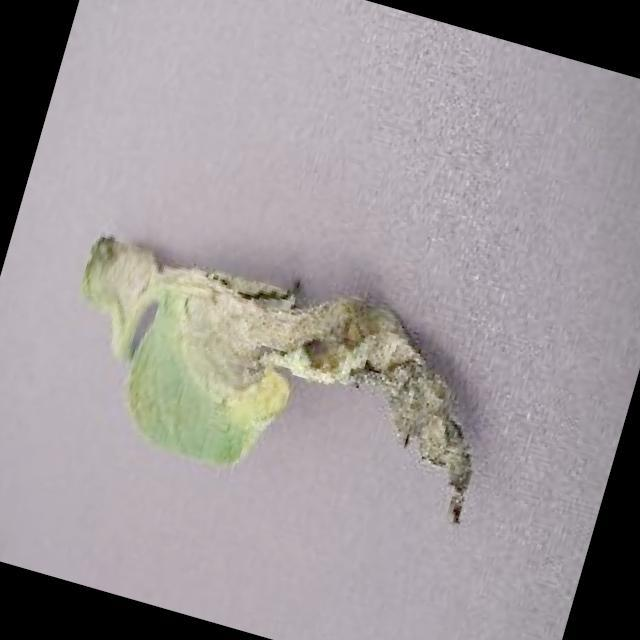Tomato late blight leaf: (39, 215, 514, 539)
